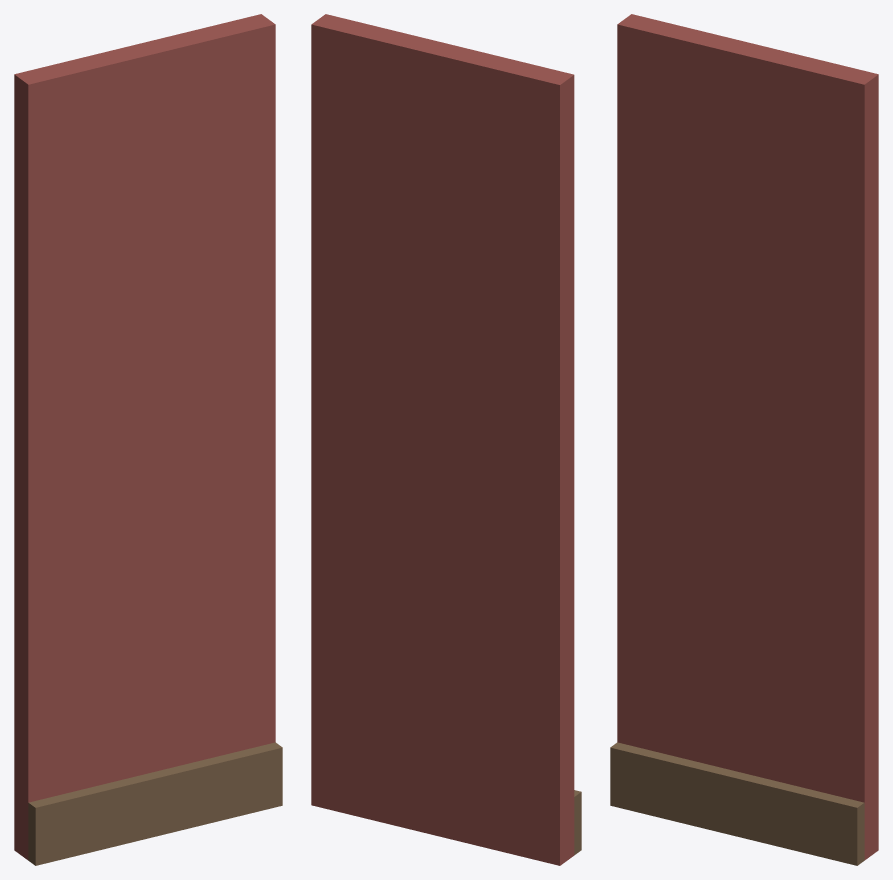
Rendered from Mesh_WallBaseboard_C1.fbx.
3 views of the same model, side by side, from view 1: azimuth 30°, elevation 25°; view 2: azimuth 150°, elevation 25°; view 3: azimuth 330°, elevation 25° (orthographic).
Visible parts, largest first — view 1: Mesh_WallBaseboard_C1; view 2: Mesh_WallBaseboard_C1; view 3: Mesh_WallBaseboard_C1.
Boxes of the visible parts, bbox=[...] form: Mesh_WallBaseboard_C1: bbox=[14, 14, 282, 865]; Mesh_WallBaseboard_C1: bbox=[311, 14, 581, 865]; Mesh_WallBaseboard_C1: bbox=[610, 14, 878, 865].
Size of the model in its own units: 1 by 3 by 0.15.
